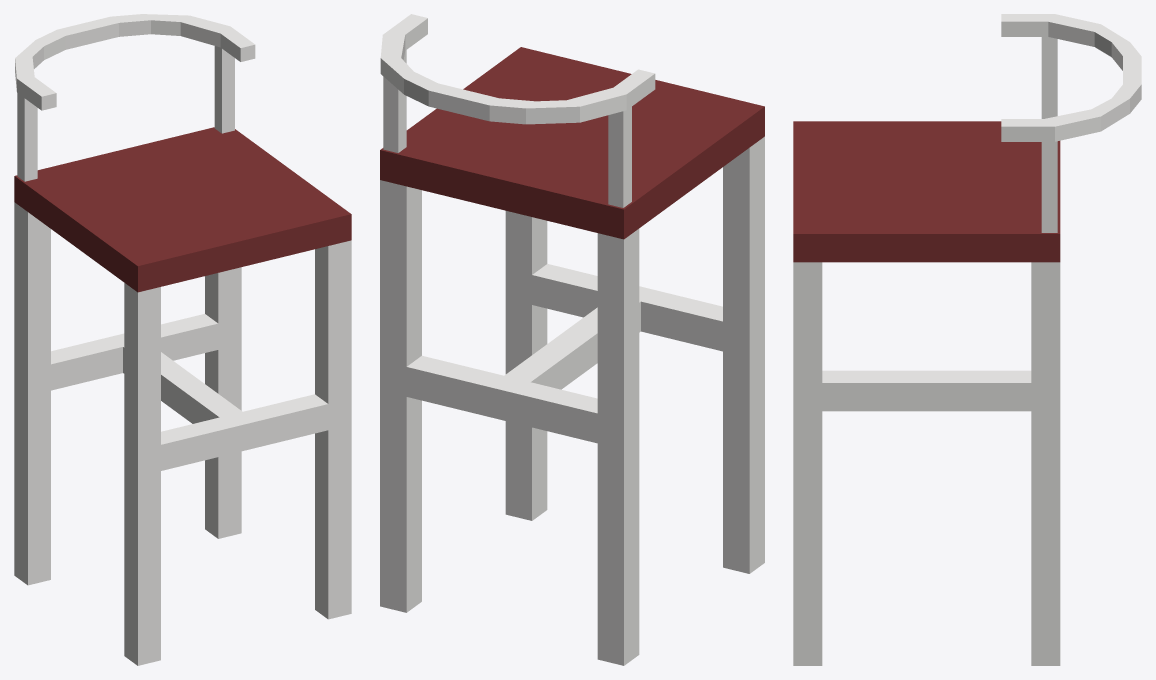
The model's file is Chair_21.fbx.
3 views of the same model, side by side, from view 1: azimuth 30°, elevation 25°; view 2: azimuth 150°, elevation 25°; view 3: azimuth 270°, elevation 25° (orthographic). The views are drawn at different scales.
Visible parts, largest first — view 1: Chair_21; view 2: Chair_21; view 3: Chair_21.
Boxes of the visible parts, x1,y1,x2,y2 form: Chair_21: [14, 14, 351, 665]; Chair_21: [380, 14, 764, 665]; Chair_21: [793, 14, 1141, 665].
Bounding box in the file's own units: 42.82 × 55.88 × 95.54.
